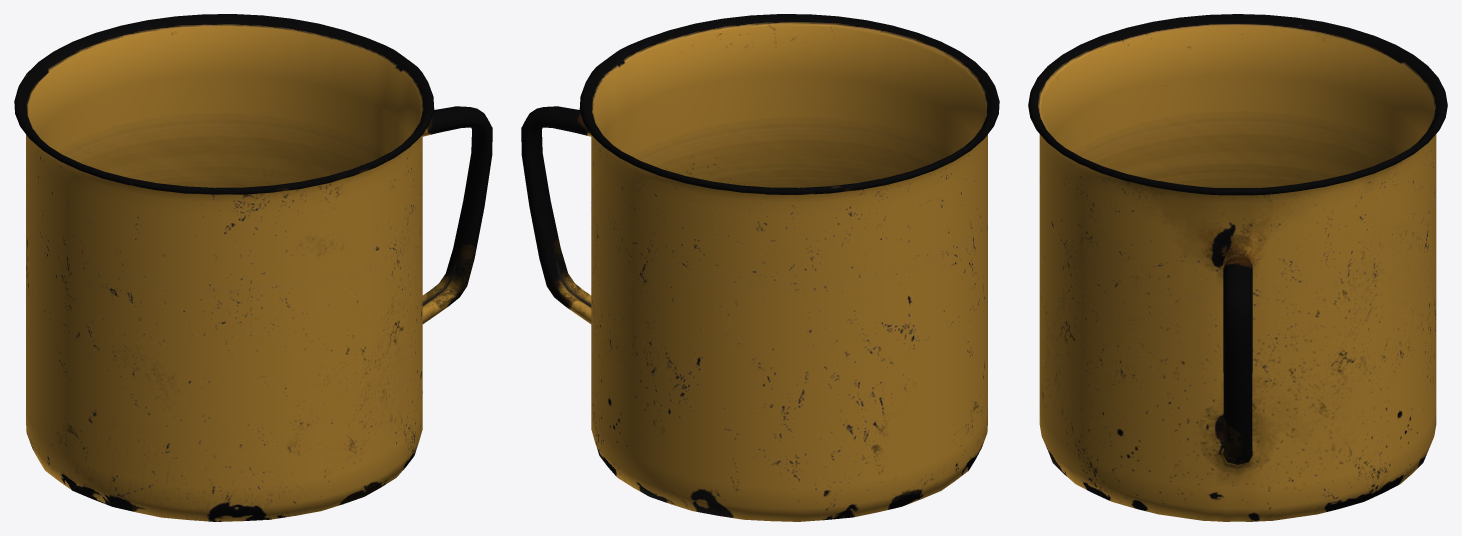
The model's file is mug.glb.
3 renders of one model, left to right at view 1: azimuth 30°, elevation 25°; view 2: azimuth 150°, elevation 25°; view 3: azimuth 270°, elevation 25°, orthographic.
Visible parts, largest first — view 1: CUP_Cylinder.004; view 2: CUP_Cylinder.004; view 3: CUP_Cylinder.004.
Boxes of the visible parts, x1,y1,x2,y2 form: CUP_Cylinder.004: [14, 14, 492, 521]; CUP_Cylinder.004: [521, 14, 999, 521]; CUP_Cylinder.004: [1028, 14, 1447, 521].
Bounding box in the file's own units: 2 × 1.51 × 1.63.
1 material, 1 textured.
